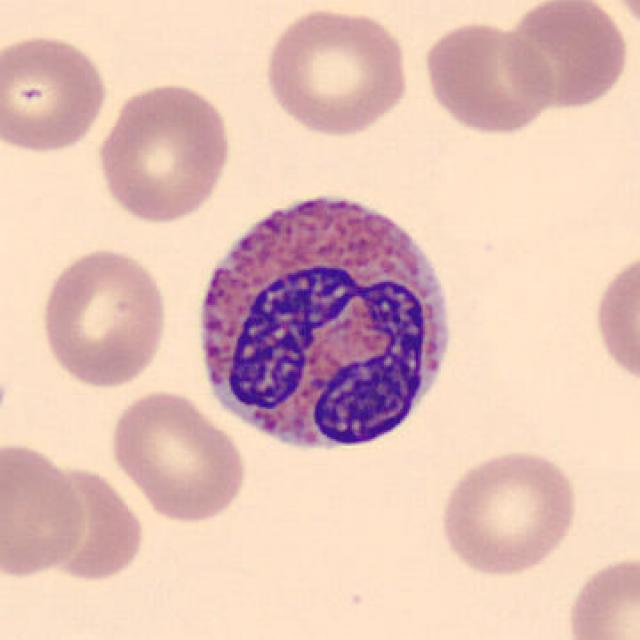Eosinophil: (183, 169, 466, 473)
RBC: (93, 78, 235, 226), (260, 4, 414, 140), (36, 244, 172, 392), (107, 388, 249, 525), (434, 446, 581, 578), (418, 18, 558, 138), (496, 0, 633, 113), (0, 30, 112, 157), (31, 466, 146, 584), (0, 437, 91, 582), (590, 244, 638, 392), (562, 552, 638, 640), (599, 0, 640, 41)
